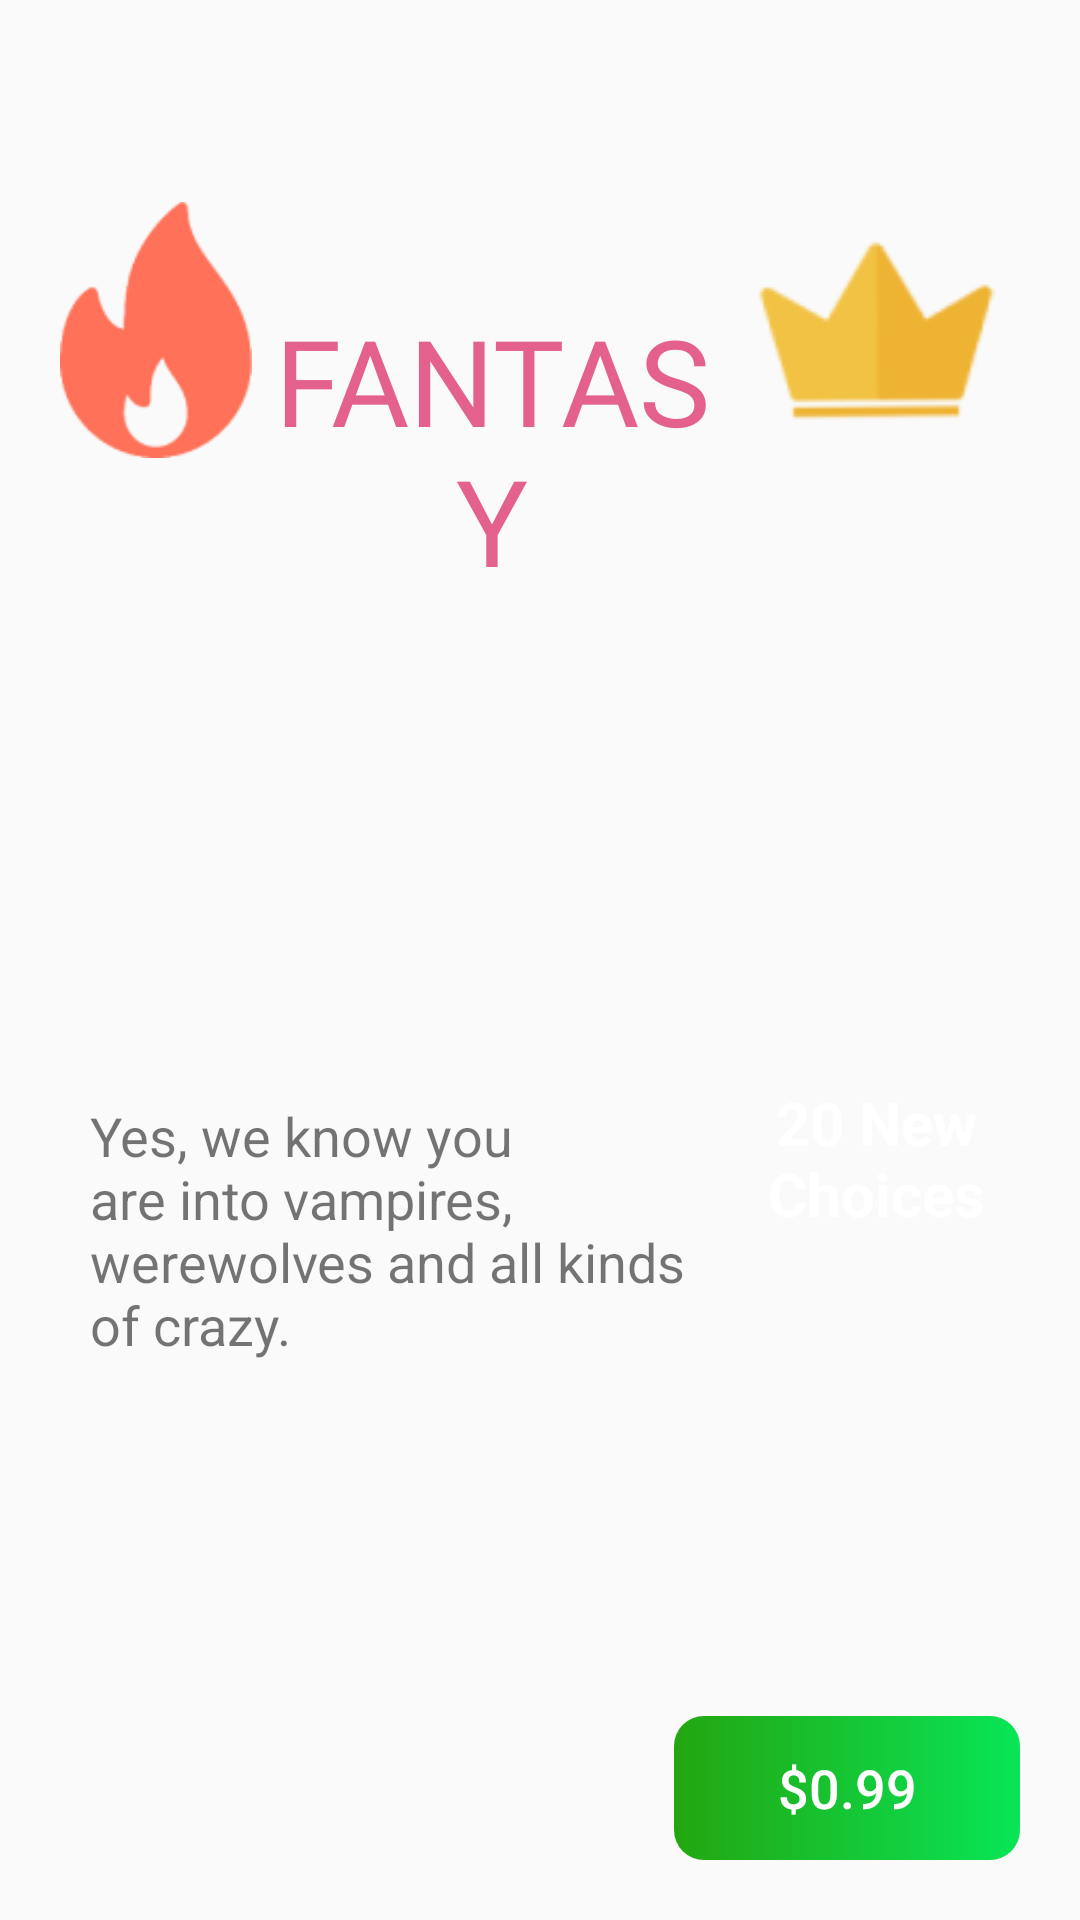

Where to tap for icons on this 1080×1920 app screen, as point (x, y):
crown: point (877, 331)
flame: point (156, 330)
